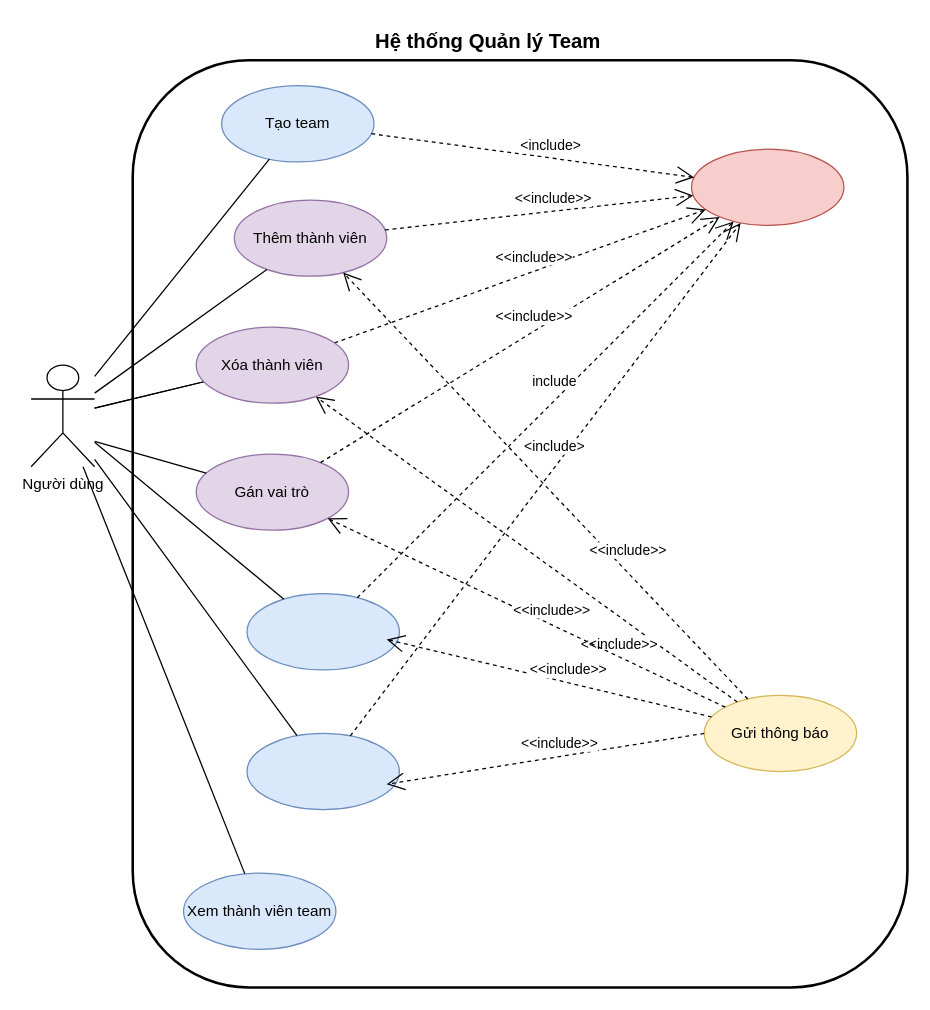
Image size: 930x1010. Some labels were removed from this diagram. The shapes that lost their labels are listed below. From the top down, each one's centre as x and y in pixels, then its label:
(x=767, y=186): Kiểm tra quyền hạn
(x=322, y=631): Chỉnh sửa team
(x=322, y=771): Xóa team
